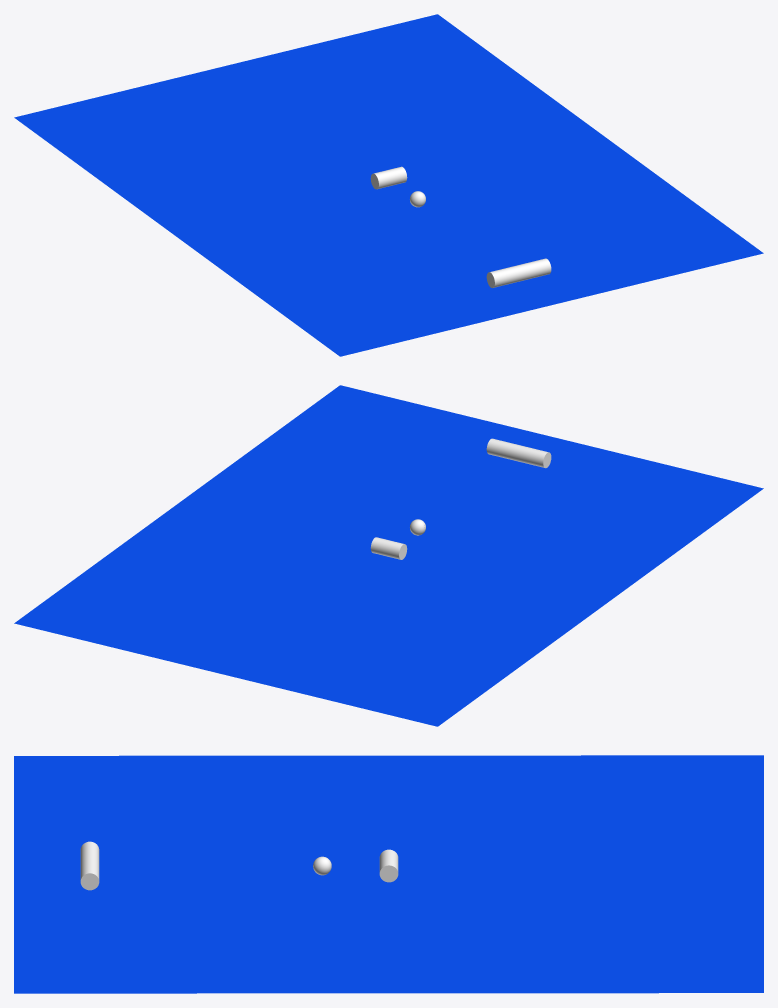
3 renders of one model, top to bottom at view 1: azimuth 30°, elevation 25°; view 2: azimuth 150°, elevation 25°; view 3: azimuth 270°, elevation 25°, orthographic. The views are drawn at different scales.
Parts seen in each view (by area): view 1: Ground, Cylinder (×2); view 2: Ground, Cylinder (×2); view 3: Ground, Cylinder (×2).
Part boxes in pixels (x1,y1,x2,y2): Ground: (14, 14, 763, 356); Cylinder (×2): (370, 166, 551, 287); Ground: (14, 385, 763, 726); Cylinder (×2): (370, 438, 551, 559); Ground: (14, 755, 763, 993); Cylinder (×2): (80, 841, 398, 890).
Bounding box in the file's own units: 30 × 1.02 × 40.
